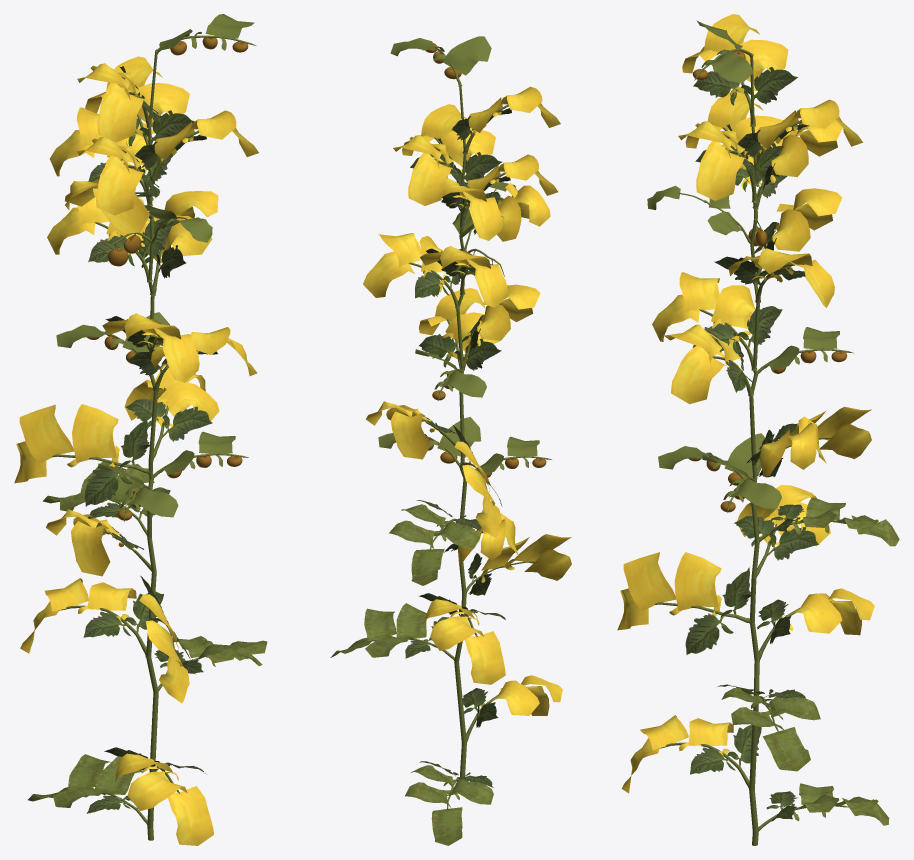
File: apple_tree.dae
3 views of the same model, side by side, from view 1: azimuth 30°, elevation 25°; view 2: azimuth 150°, elevation 25°; view 3: azimuth 270°, elevation 25° (orthographic). The views are drawn at different scales.
Parts seen in each view (by area): view 1: Blossom1, Branch1, Leaf1; view 2: Blossom1, Branch1, Leaf1; view 3: Blossom1, Branch1, Leaf1.
Boxes of the visible parts, x1=… form: Blossom1: x1=14, y1=56, x2=258, y2=845; Branch1: x1=28, y1=14, x2=267, y2=840; Leaf1: x1=83, y1=66, x2=217, y2=813; Blossom1: x1=363, y1=86, x2=571, y2=715; Branch1: x1=330, y1=36, x2=551, y2=845; Leaf1: x1=405, y1=108, x2=511, y2=787; Blossom1: x1=617, y1=14, x2=874, y2=793; Branch1: x1=647, y1=20, x2=899, y2=845; Leaf1: x1=685, y1=67, x2=819, y2=821.
Size of the model in its own units: 0.7722 by 0.8411 by 2.73.
Materials: 4 (3 with a texture image).
